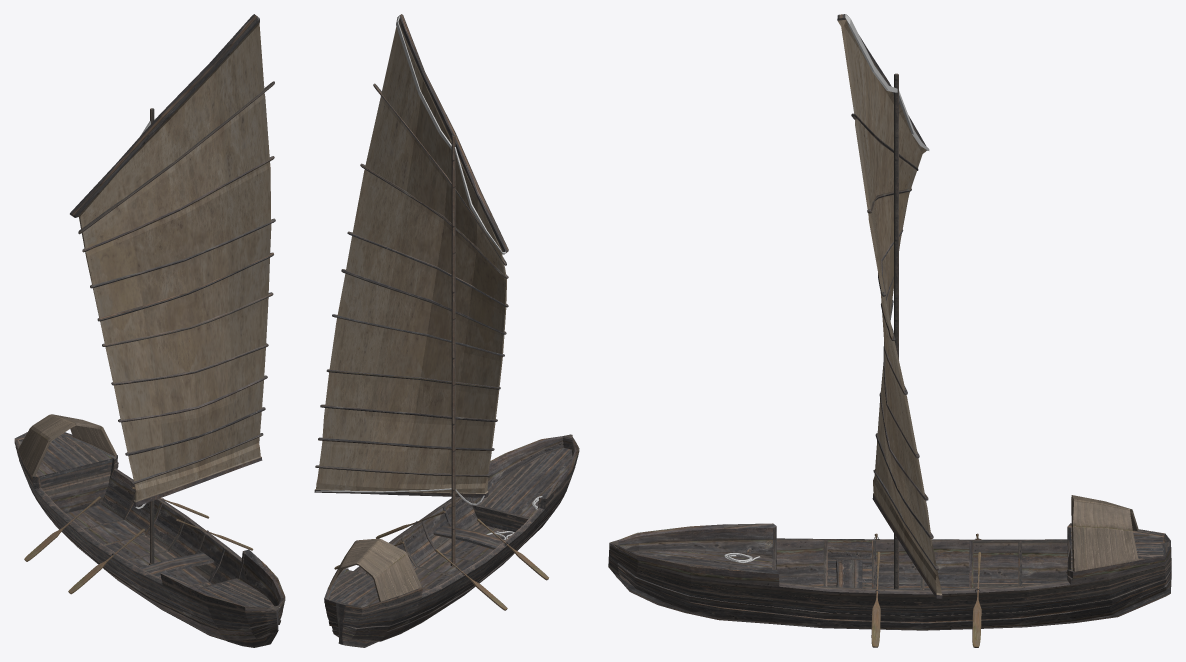
The model's file is Boat_Sails.fbx.
The picture shows the model from 3 angles, left to right: view 1: azimuth 30°, elevation 25°; view 2: azimuth 150°, elevation 25°; view 3: azimuth 270°, elevation 25°; orthographic projection. The views are drawn at different scales.
Parts seen in each view (by area): view 1: Sail, BoatSails, SailRibs, Hood, Seat, PaddleLongL, PaddleLongL2; view 2: Sail, BoatSails, SailRibs, Hood, Mast, SailRope, Seat; view 3: BoatSails, Sail, Hood, SailRibs, Mast, SailRope.
Part boxes in pixels (box(x1,y1,x2,y2)): Sail: box(70, 14, 271, 506); BoatSails: box(14, 432, 285, 647); SailRibs: box(78, 81, 275, 484); Hood: box(18, 414, 116, 476); Seat: box(140, 553, 213, 576); PaddleLongL: box(68, 528, 144, 594); PaddleLongL2: box(24, 496, 100, 561); Sail: box(314, 14, 508, 497); BoatSails: box(324, 434, 579, 647); SailRibs: box(315, 83, 508, 476); Hood: box(327, 538, 421, 601); Mast: box(450, 135, 456, 566); SailRope: box(315, 16, 505, 505); Seat: box(433, 525, 505, 549); BoatSails: box(608, 523, 1171, 630); Sail: box(837, 14, 942, 598); Hood: box(1071, 495, 1138, 571); SailRibs: box(851, 113, 938, 570); Mast: box(894, 73, 898, 589); SailRope: box(845, 14, 929, 150).
Bounding box in the file's own units: 6.81 × 17 × 13.15.
